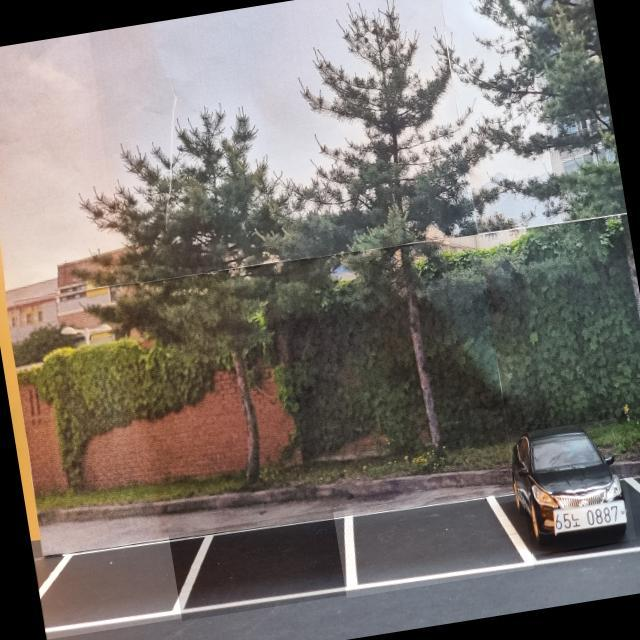empty: (334, 482, 535, 598), (168, 507, 362, 621), (35, 534, 204, 639)
occupied: (504, 418, 636, 557)
